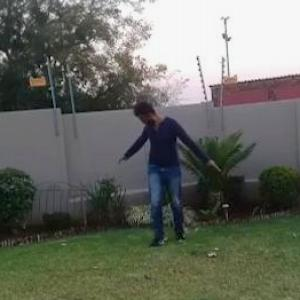land: (94, 87, 214, 261)
